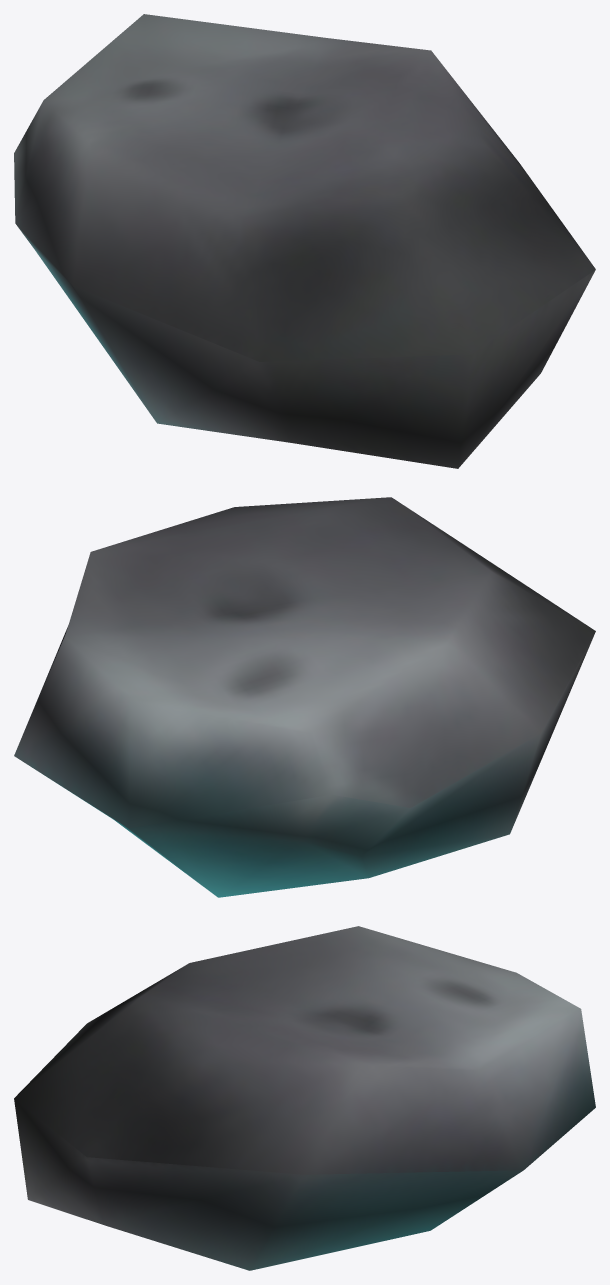
Rendered from particle_Rock01.fbx.
3 renders of one model, top to bottom at view 1: azimuth 30°, elevation 25°; view 2: azimuth 150°, elevation 25°; view 3: azimuth 270°, elevation 25°, orthographic. The views are drawn at different scales.
Parts seen in each view (by area): view 1: rock_01; view 2: rock_01; view 3: rock_01.
Part boxes in pixels (x1,y1,x2,y2): rock_01: (14,14,595,468); rock_01: (14,497,595,897); rock_01: (14,926,595,1270).
Bounding box in the file's own units: 0.148 × 0.0893 × 0.19.
